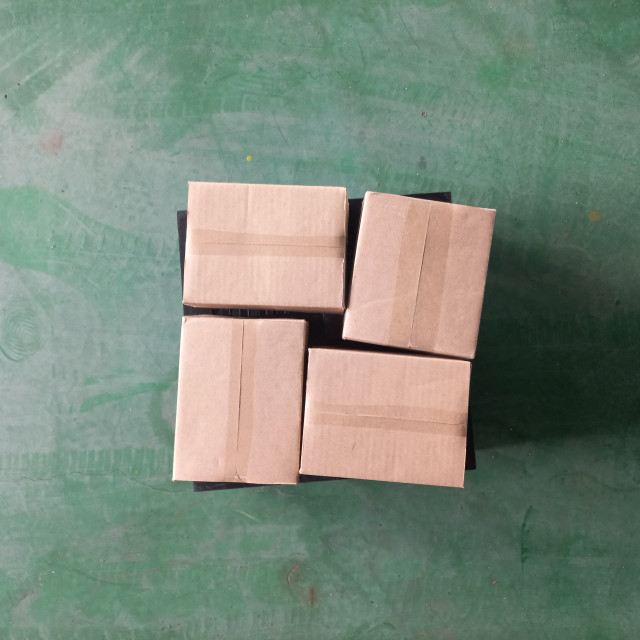box: (339, 185, 499, 361), (295, 343, 475, 492), (169, 310, 311, 491), (179, 175, 351, 315)
